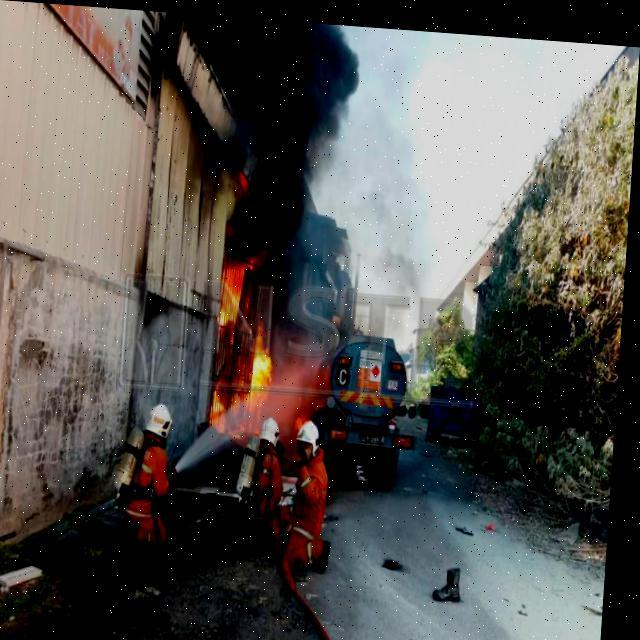Fire: (210, 278, 286, 438)
